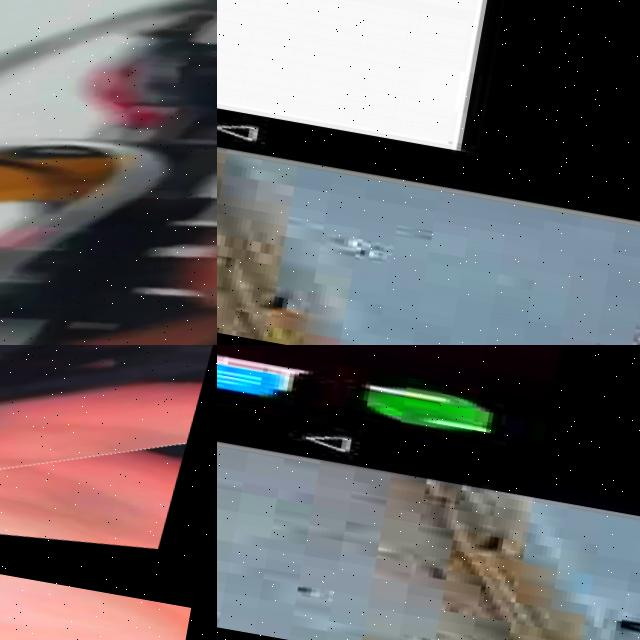drone: (0, 0, 217, 345), (0, 345, 217, 607)
